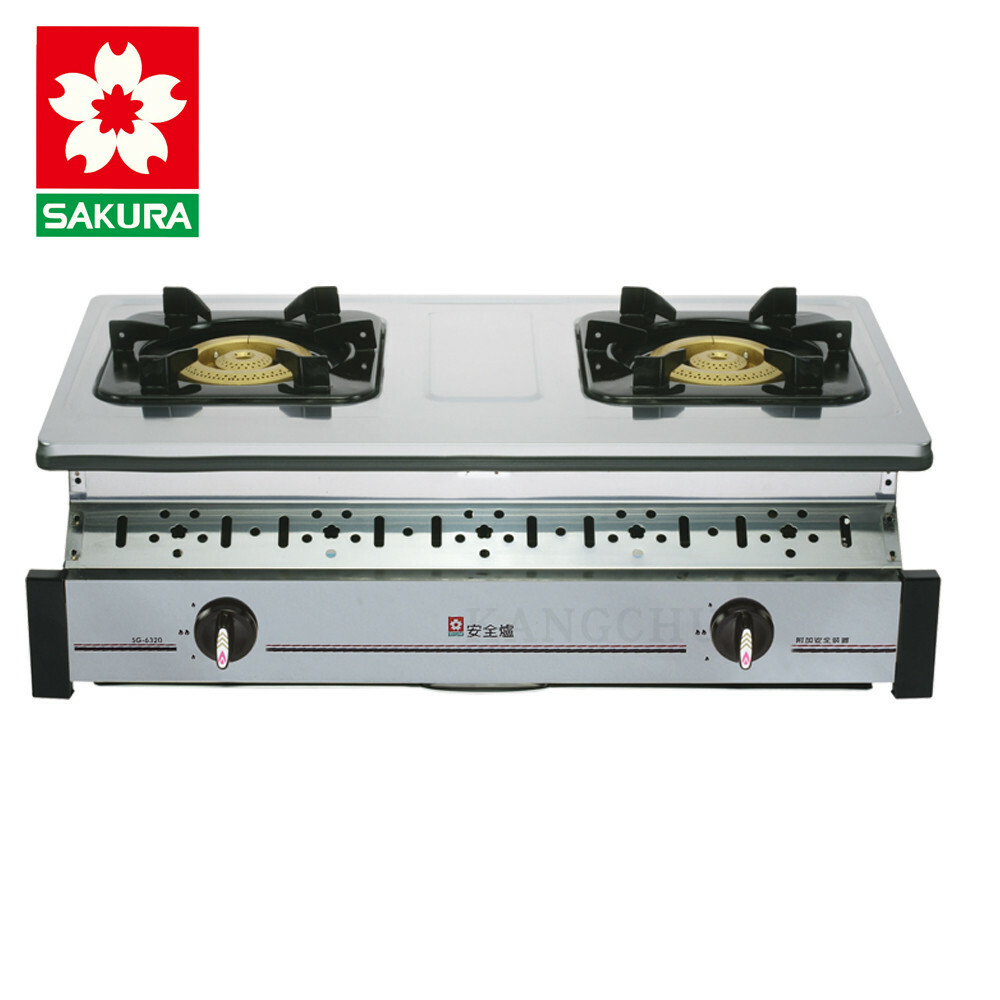gasoven: (22, 282, 957, 714)
